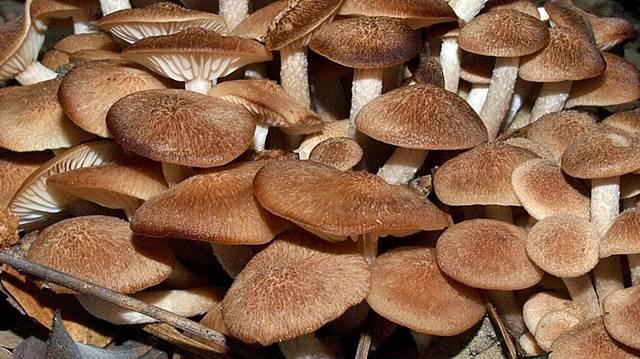Edible Mushroom: (1, 0, 637, 357)
